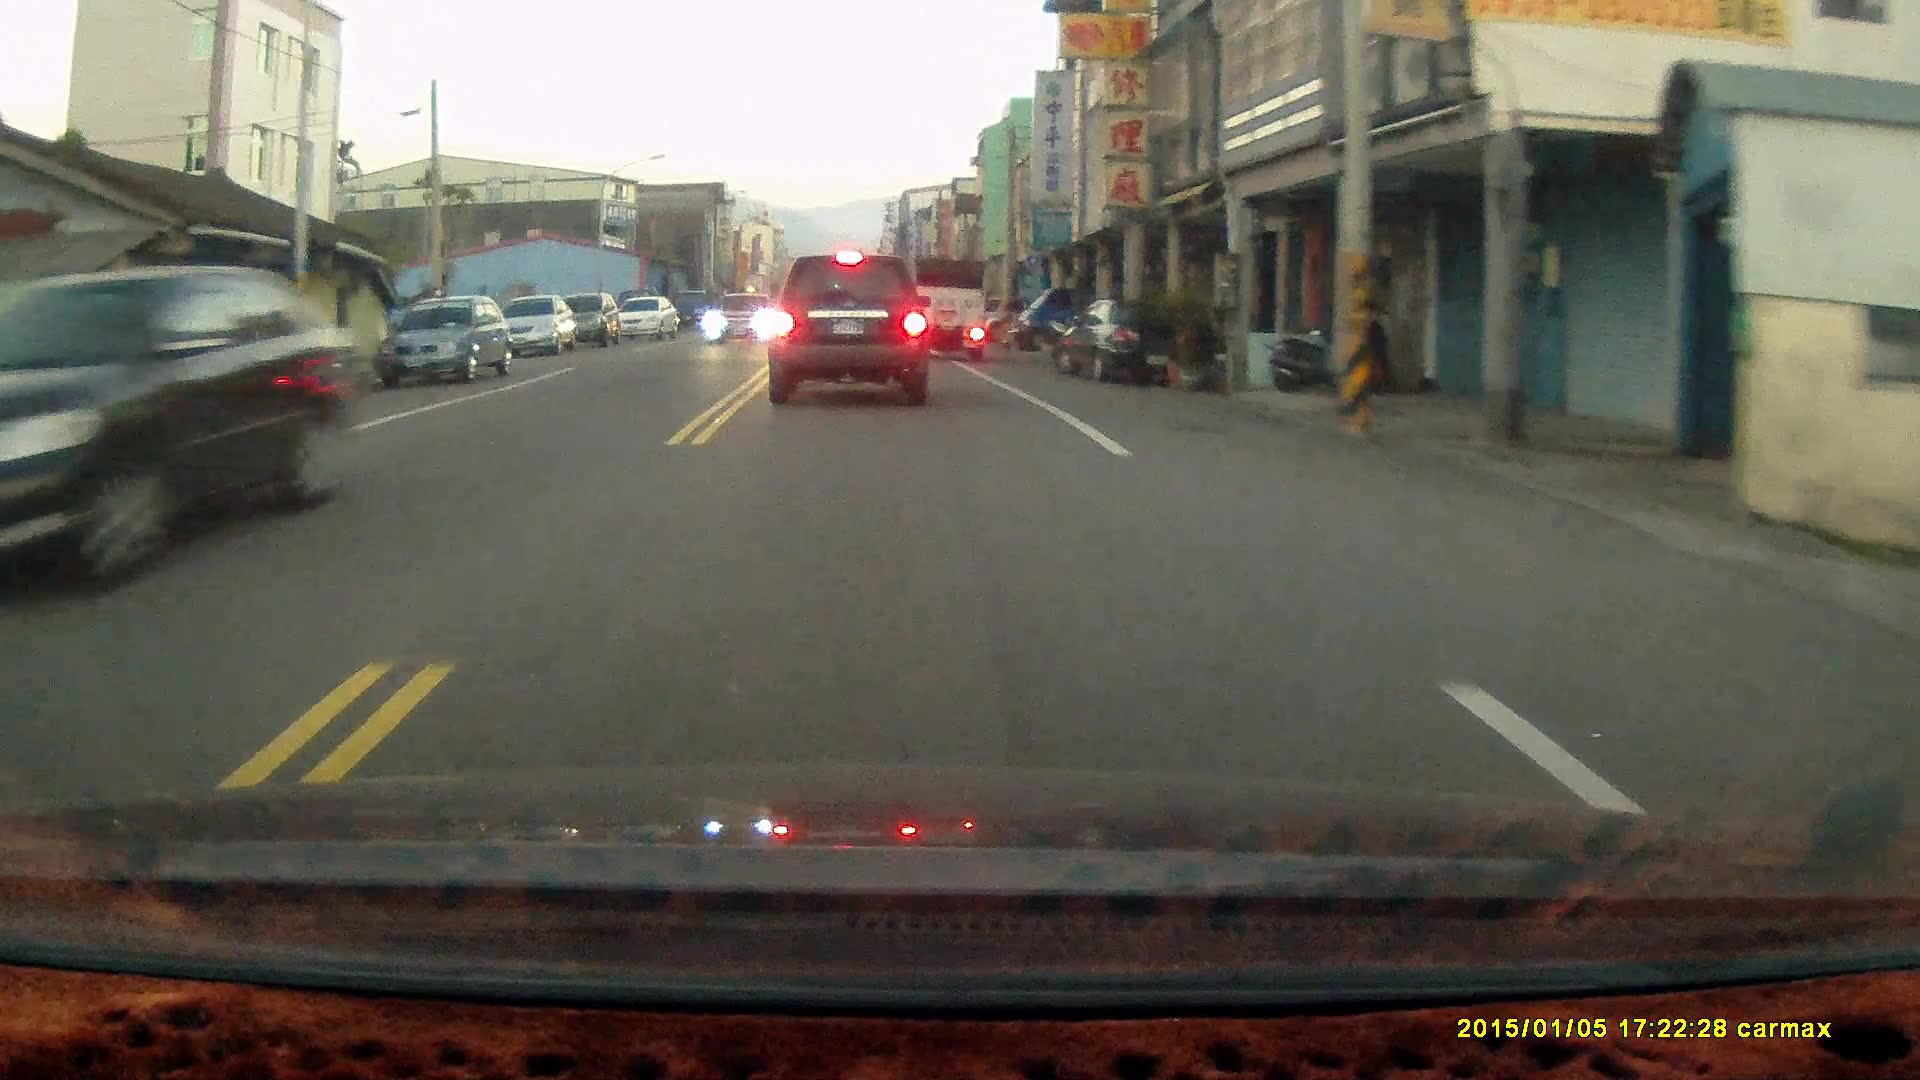vehicle: (1, 261, 357, 616), (767, 251, 931, 407), (1058, 295, 1205, 382), (381, 295, 513, 386), (902, 256, 993, 367), (1015, 280, 1131, 355), (498, 294, 575, 357), (550, 291, 622, 345), (704, 293, 778, 345), (615, 297, 684, 342)
